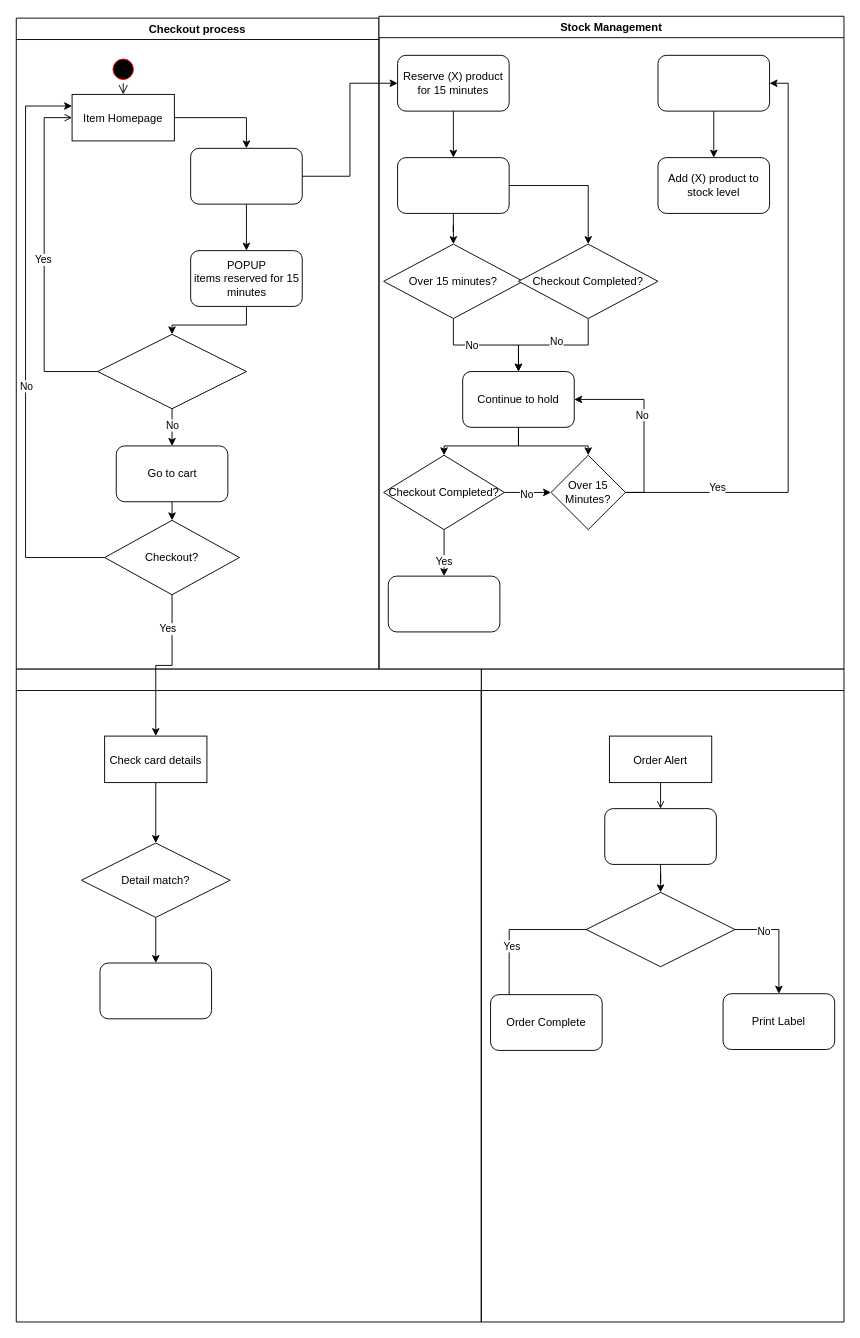
Image size: 860x1338. Some labels were removed from this diagram. Each missing label, with the box of its shape:
Add item to cart: (190, 147, 302, 204)
Bank: (15, 668, 481, 1322)
Continue Shopping?: (97, 333, 246, 409)
Label Printed?: (585, 891, 735, 967)
Minus (X) product from stock level: (397, 157, 509, 213)
Pick Order: (604, 808, 716, 864)
Remove (X) product from stock level: (387, 575, 500, 632)
Return item to stock: (657, 54, 770, 111)
Staff: (480, 668, 844, 1322)
